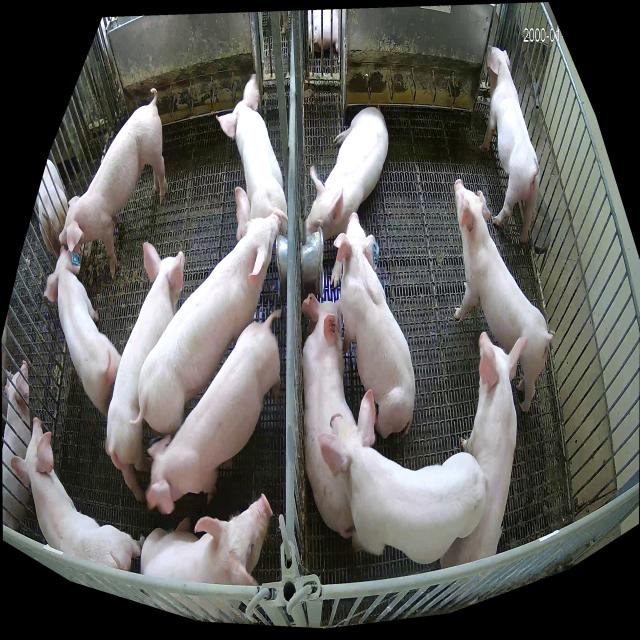pig: (140, 186, 282, 433), (318, 388, 485, 565), (146, 313, 280, 514), (453, 178, 553, 411), (105, 242, 185, 501), (11, 417, 145, 571), (441, 333, 527, 568), (60, 93, 168, 276), (334, 214, 415, 438), (44, 245, 122, 418), (302, 292, 355, 539), (140, 494, 272, 585), (480, 45, 539, 244), (217, 75, 288, 232), (305, 107, 388, 240)
